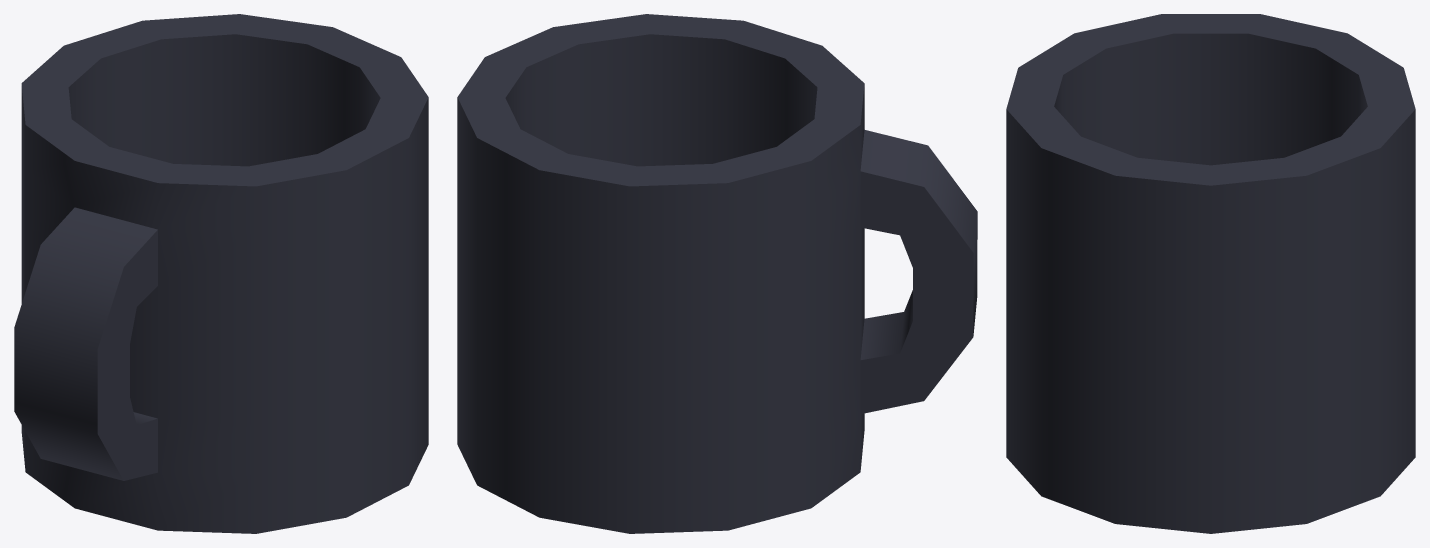
File: fbx_club_cup.fbx
3 views of the same model, side by side, from view 1: azimuth 30°, elevation 25°; view 2: azimuth 150°, elevation 25°; view 3: azimuth 270°, elevation 25° (orthographic).
Visible parts, largest first — view 1: fbx_club_cup; view 2: fbx_club_cup; view 3: fbx_club_cup.
Part boxes in pixels (bbox=[...]): fbx_club_cup: bbox=[14, 14, 428, 533]; fbx_club_cup: bbox=[457, 14, 977, 533]; fbx_club_cup: bbox=[1006, 14, 1415, 533].
Bounding box in the file's own units: 0.448 × 0.3398 × 0.3619.
Materials: 1 (1 with a texture image).
